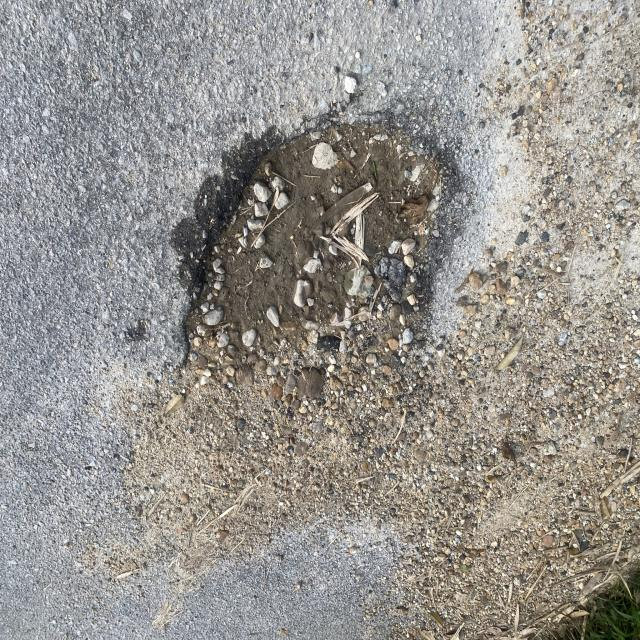Pothole: (146, 99, 596, 439)
